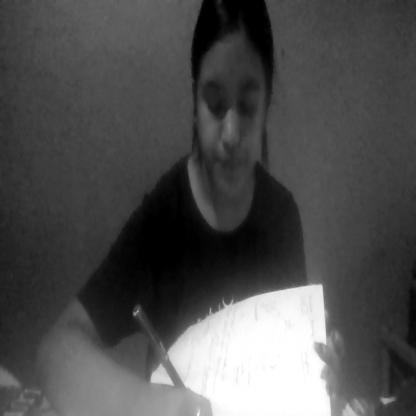Normal: (190, 2, 273, 196)
